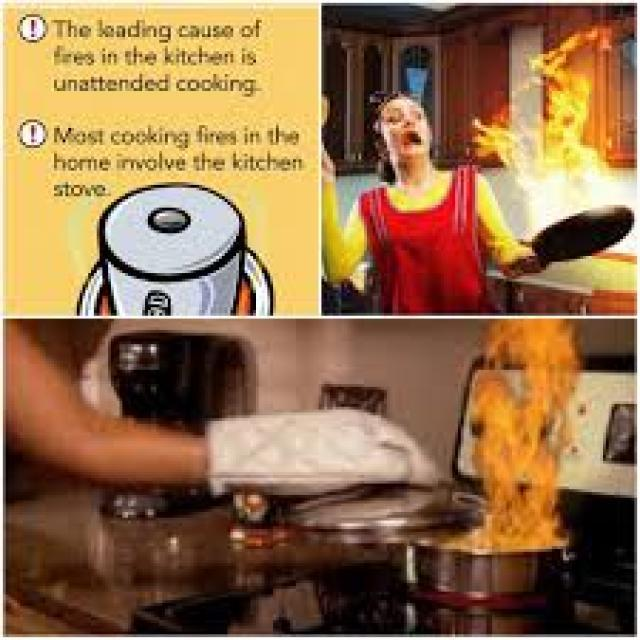Fire: (468, 326, 576, 554), (487, 44, 622, 222)
